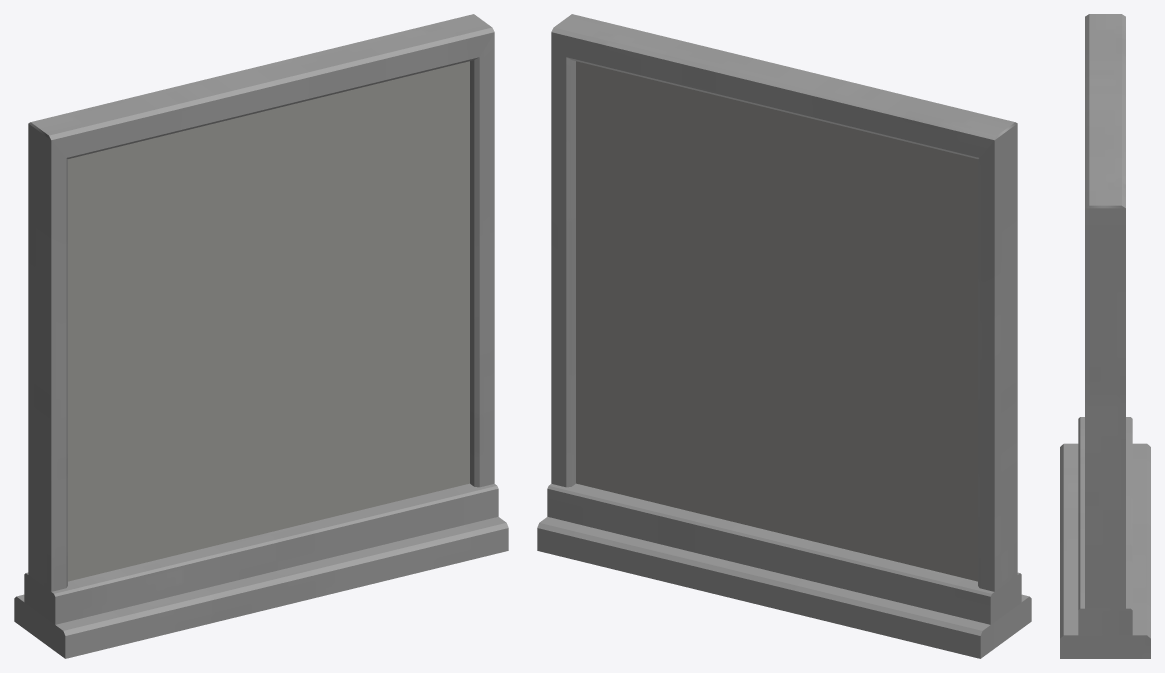
The picture shows the model from 3 angles, left to right: view 1: azimuth 30°, elevation 25°; view 2: azimuth 150°, elevation 25°; view 3: azimuth 270°, elevation 25°; orthographic projection. The views are drawn at different scales.
Bounding box in the file's own units: 10 × 11.02 × 2.
2 materials, 2 textured.
